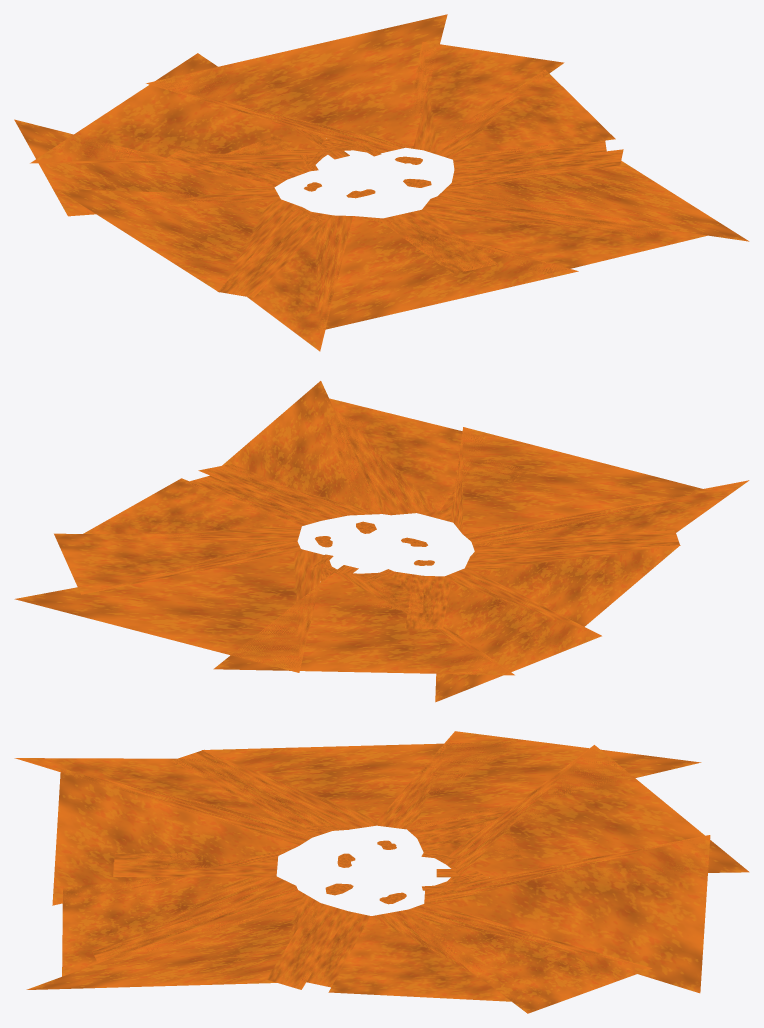
File: LV9Hitbox.fbx
The picture shows the model from 3 angles, top to bottom: view 1: azimuth 30°, elevation 25°; view 2: azimuth 150°, elevation 25°; view 3: azimuth 270°, elevation 25°; orthographic projection. The views are drawn at different scales.
Parts seen in each view (by area): view 1: pPlane82; view 2: pPlane82; view 3: pPlane82.
Boxes of the visible parts, x1=… form: pPlane82: x1=14, y1=14, x2=749, y2=351; pPlane82: x1=14, y1=381, x2=749, y2=702; pPlane82: x1=14, y1=731, x2=749, y2=1013.
Size of the model in its own units: 1410 by 0 by 1551.
